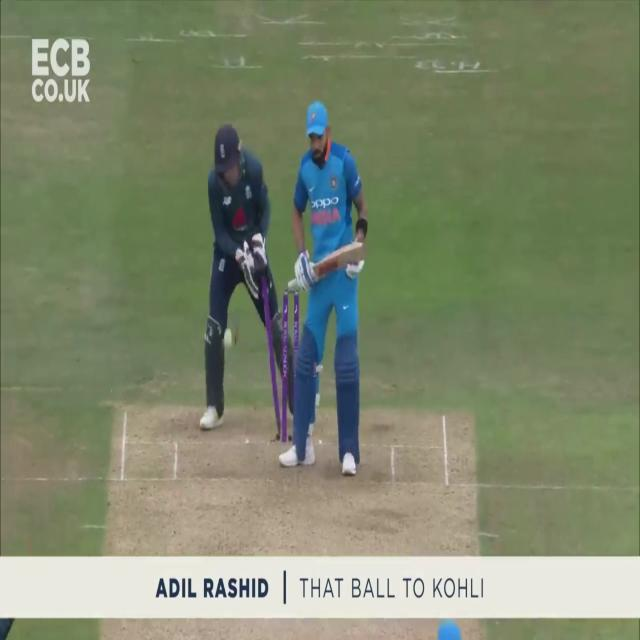cricketBall: (225, 330, 233, 344)
